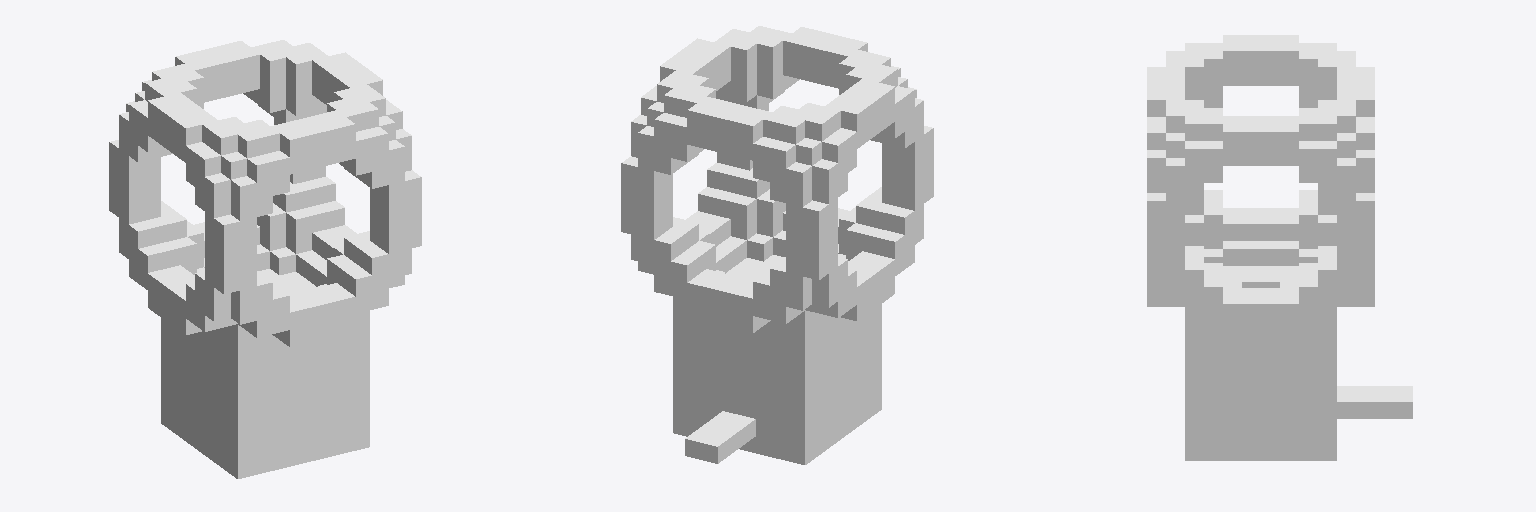
Rendered from target.obj.
3 views of the same model, side by side, from view 1: azimuth 30°, elevation 25°; view 2: azimuth 150°, elevation 25°; view 3: azimuth 270°, elevation 25° (orthographic).
Visible parts, largest first — view 1: object 1; view 2: object 1; view 3: object 1.
Boxes of the visible parts, x1,y1,x2,y2 form: object 1: [109, 40, 421, 478]; object 1: [621, 26, 933, 464]; object 1: [1147, 35, 1412, 460].
Bounding box in the file's own units: 1.2 × 2 × 1.4.